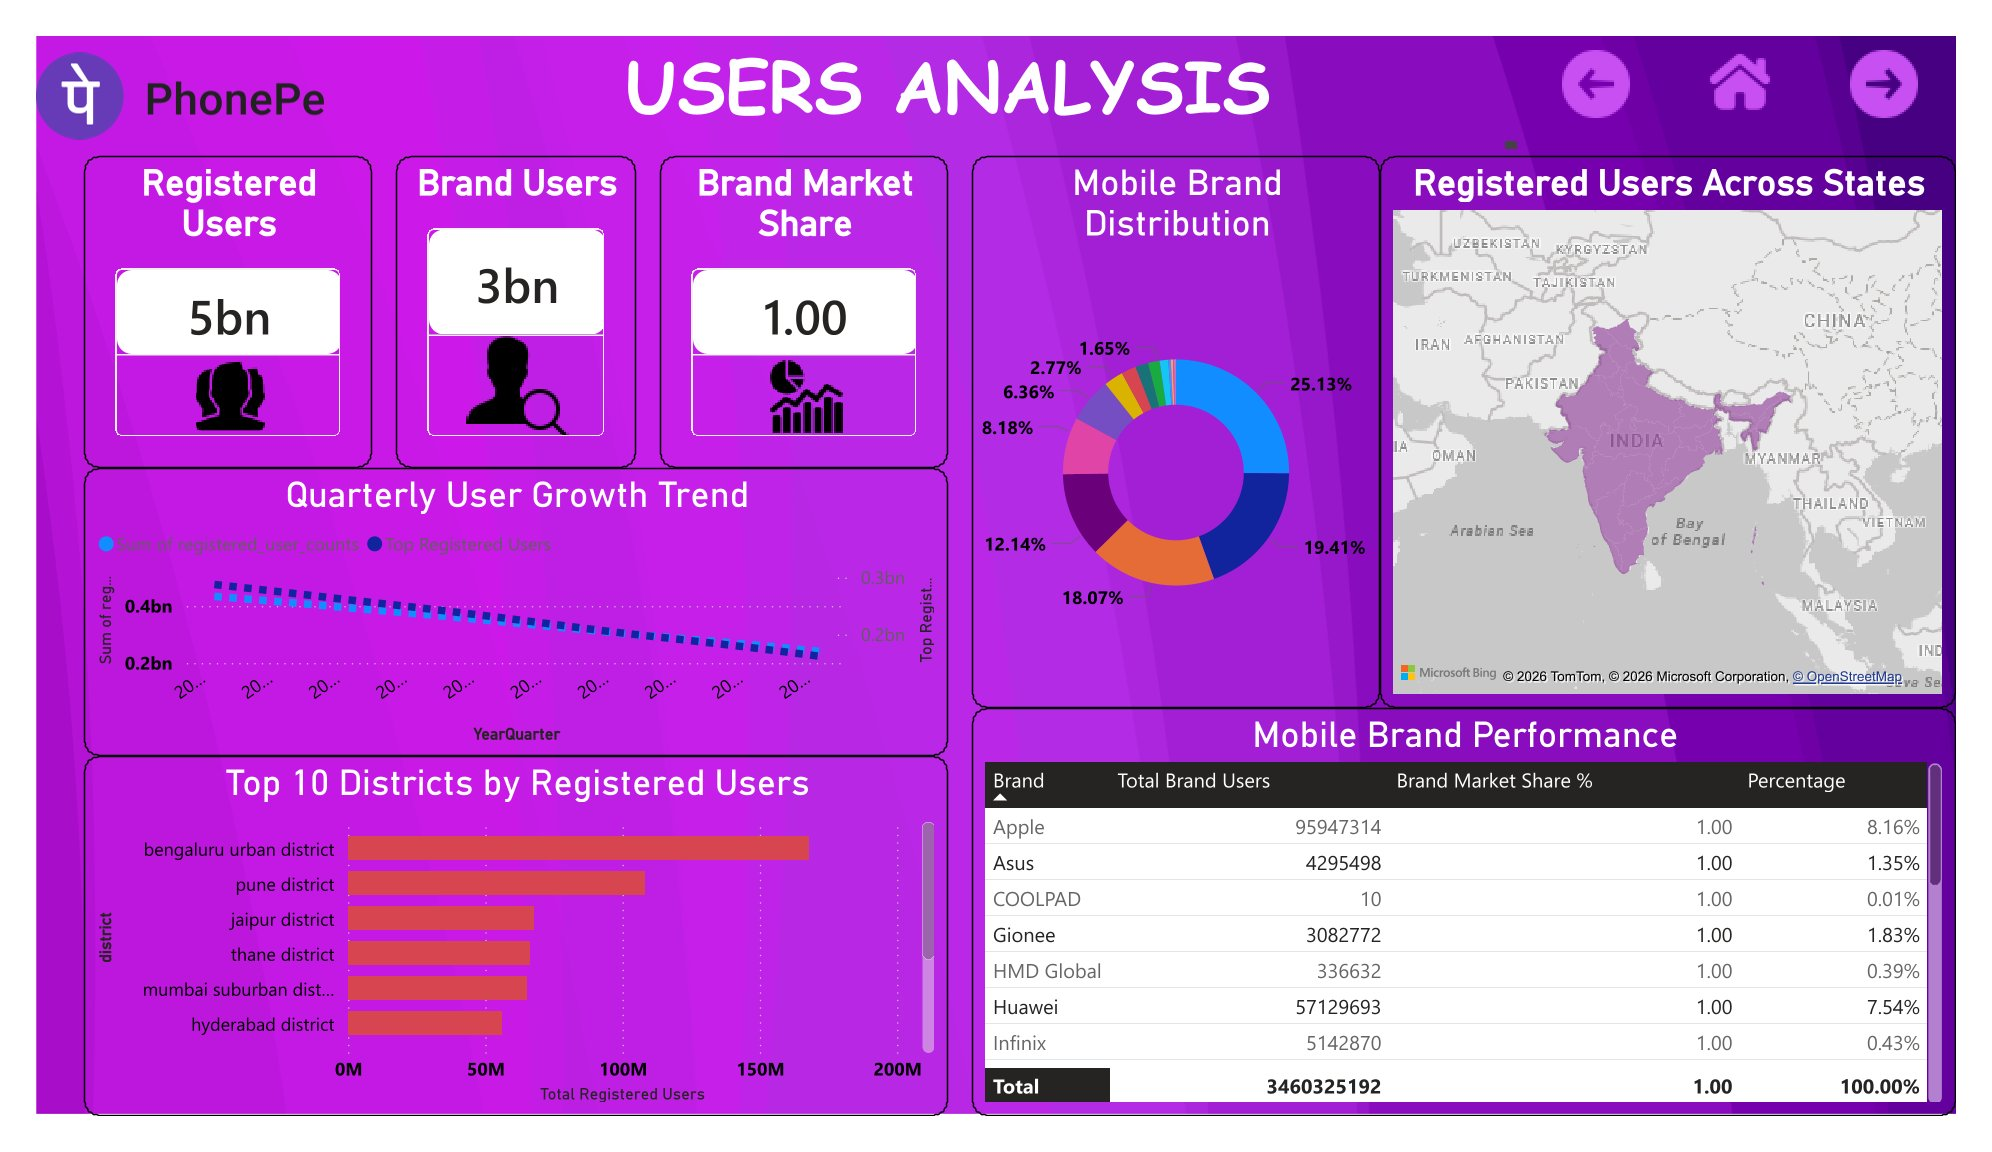

The page's visual inventory and layout, read from the dashboard file:
{"tool":"powerbi","page":{"name":"Explore Users","canvas":[1280,720],"ordinal":2},"visuals":[{"type":"image","box":[0,0,1280.6,719.4],"z":0},{"type":"image","box":[0,0,192,80],"z":1000},{"type":"cardVisual","title":"Registered Users","fields":{"Data":["map_user.Total Registered Users"]},"box":[32,80,192,208],"z":2000},{"type":"cardVisual","title":"Brand Users","fields":{"Data":["aggregated_user.Total Brand Users"]},"box":[240,80,160,208],"z":3000},{"type":"cardVisual","title":"Brand Market Share","fields":{"Data":["aggregated_user.Brand Market Share %"]},"box":[416,80,192,208],"z":4000},{"type":"actionButton","box":[1088,0,96,64],"z":5000},{"type":"actionButton","box":[1184,0,96,64],"z":6000},{"type":"actionButton","box":[992,0,96,64],"z":7000},{"type":"textbox","title":"USERS ANALYSIS","box":[224,0,768,80],"z":8000},{"type":"filledMap","title":"Registered Users Across States","fields":{"Category":["map_user.states"],"Y":["Min(map_transaction.district)"]},"box":[896,80,384,368],"z":9000},{"type":"donutChart","title":"Mobile Brand Distribution","fields":{"Category":["aggregated_user.brand"],"Y":["aggregated_user.Total Brand Users"]},"box":[624,80,272,368],"z":10000},{"type":"lineChart","title":"Quarterly User Growth Trend","fields":{"Category":["Dim_Date.YearQuarter"],"Y":["Sum(map_user.registered_user_counts)"],"Y2":["top_user.Top Registered Users"]},"box":[32,288,576,192],"z":11000},{"type":"clusteredBarChart","title":"Top 10 Districts by Registered Users","fields":{"Category":["map_user.district"],"Y":["map_user.Total Registered Users"]},"box":[32,480,576,240],"z":12000},{"type":"pivotTable","title":"Mobile Brand Performance","fields":{"Rows":["aggregated_user.brand"],"Values":["aggregated_user.Total Brand Users","aggregated_user.Brand Market Share %","Sum(aggregated_user.percentage)"]},"box":[624,448,656,272],"z":13000}]}

Visuals, with their boxes in screenshot pixels (x1, y1, x2, y2), scaled from the page's 1280x720 canvas onto the 1992x1152 screenshot:
image: left=0, top=0, right=1991, bottom=1151
image: left=0, top=0, right=299, bottom=128
"Registered Users" cardVisual: left=50, top=128, right=349, bottom=461
"Brand Users" cardVisual: left=374, top=128, right=622, bottom=461
"Brand Market Share" cardVisual: left=647, top=128, right=946, bottom=461
actionButton: left=1693, top=0, right=1843, bottom=102
actionButton: left=1843, top=0, right=1991, bottom=102
actionButton: left=1544, top=0, right=1693, bottom=102
"USERS ANALYSIS" textbox: left=349, top=0, right=1544, bottom=128
"Registered Users Across States" filledMap: left=1394, top=128, right=1991, bottom=717
"Mobile Brand Distribution" donutChart: left=971, top=128, right=1394, bottom=717
"Quarterly User Growth Trend" lineChart: left=50, top=461, right=946, bottom=768
"Top 10 Districts by Registered Users" clusteredBarChart: left=50, top=768, right=946, bottom=1151
"Mobile Brand Performance" pivotTable: left=971, top=717, right=1991, bottom=1151
